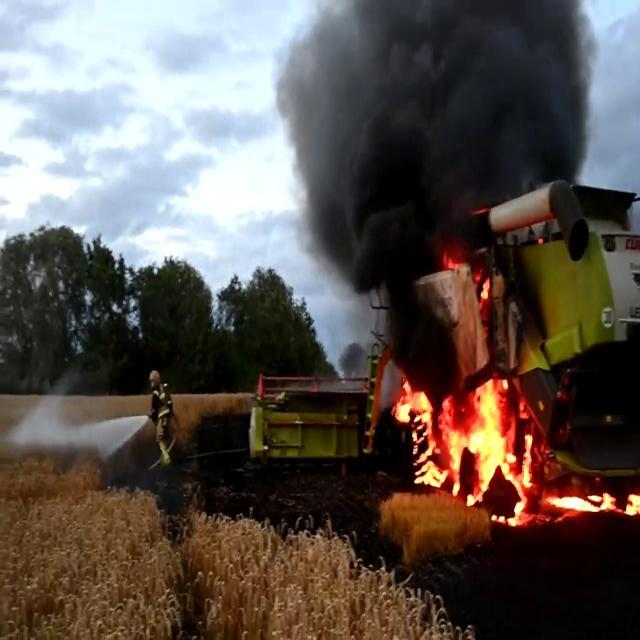Fire: (394, 374, 536, 516), (548, 479, 640, 521)
Smoke: (274, 0, 604, 331)
